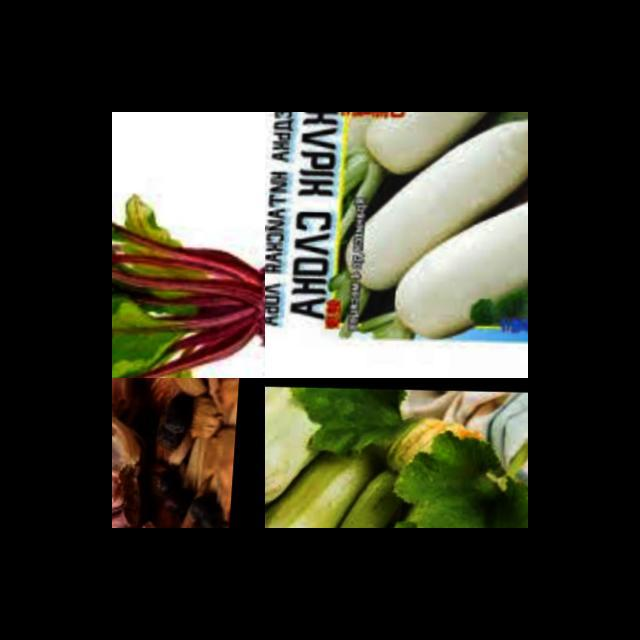garlic: (112, 403, 164, 528), (112, 378, 155, 432)
